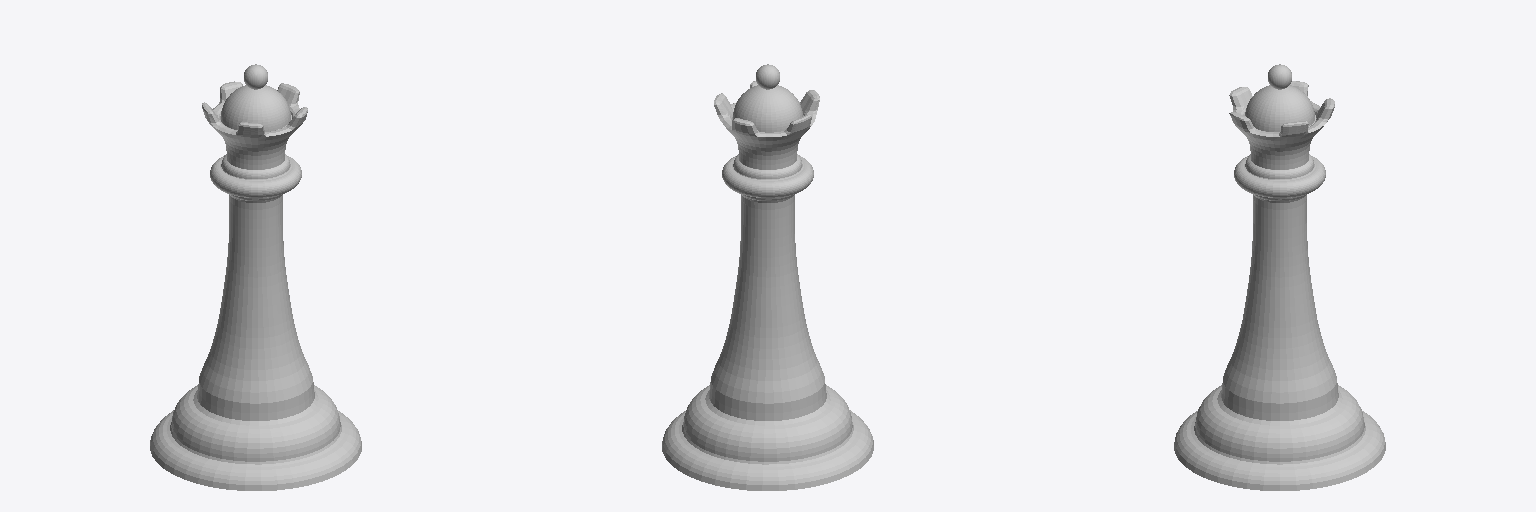
File: finalqueennear.obj
3 renders of one model, left to right at view 1: azimuth 30°, elevation 25°; view 2: azimuth 150°, elevation 25°; view 3: azimuth 270°, elevation 25°, orthographic.
Visible parts, largest first — view 1: white_queen; view 2: white_queen; view 3: white_queen.
Boxes of the visible parts, x1=… form: white_queen: x1=150, y1=64, x2=361, y2=490; white_queen: x1=662, y1=64, x2=873, y2=490; white_queen: x1=1174, y1=64, x2=1385, y2=490.
Size of the model in its own units: 0.5593 by 1.1 by 0.5593.